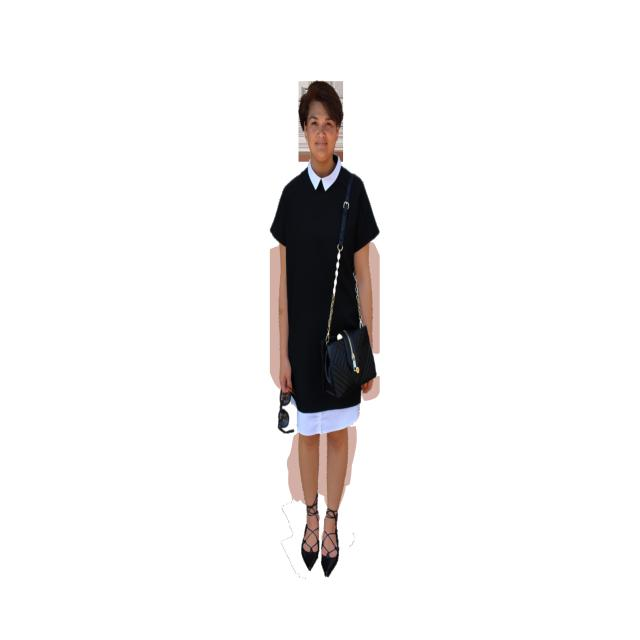jovem: (266, 60, 385, 579)
